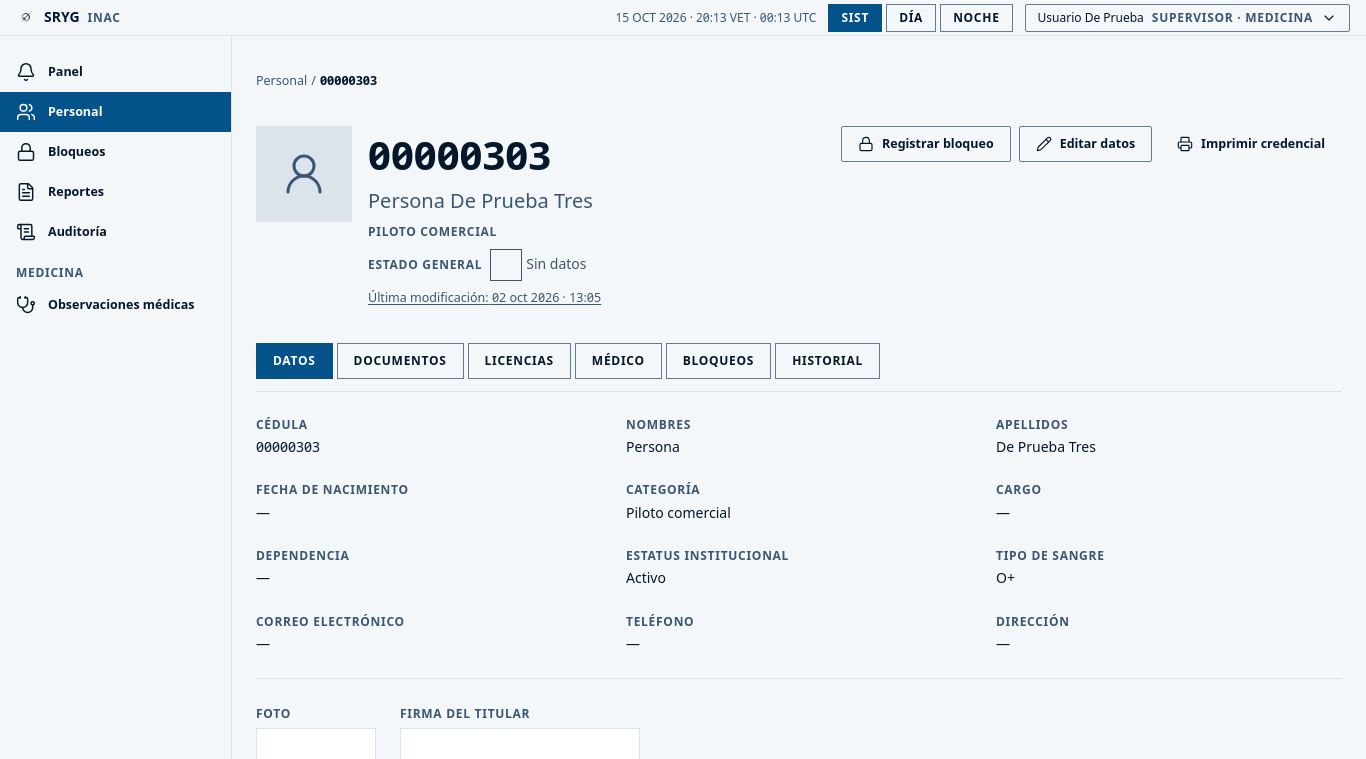
Test: "Imprimir credencial" in the Expediente (OUT-05, D7) › offers a Supervisor only the credentials of their area (D24)
Click the button "Imprimir credencial": {"x": 1251, "y": 144} [1160,126,1342,162]
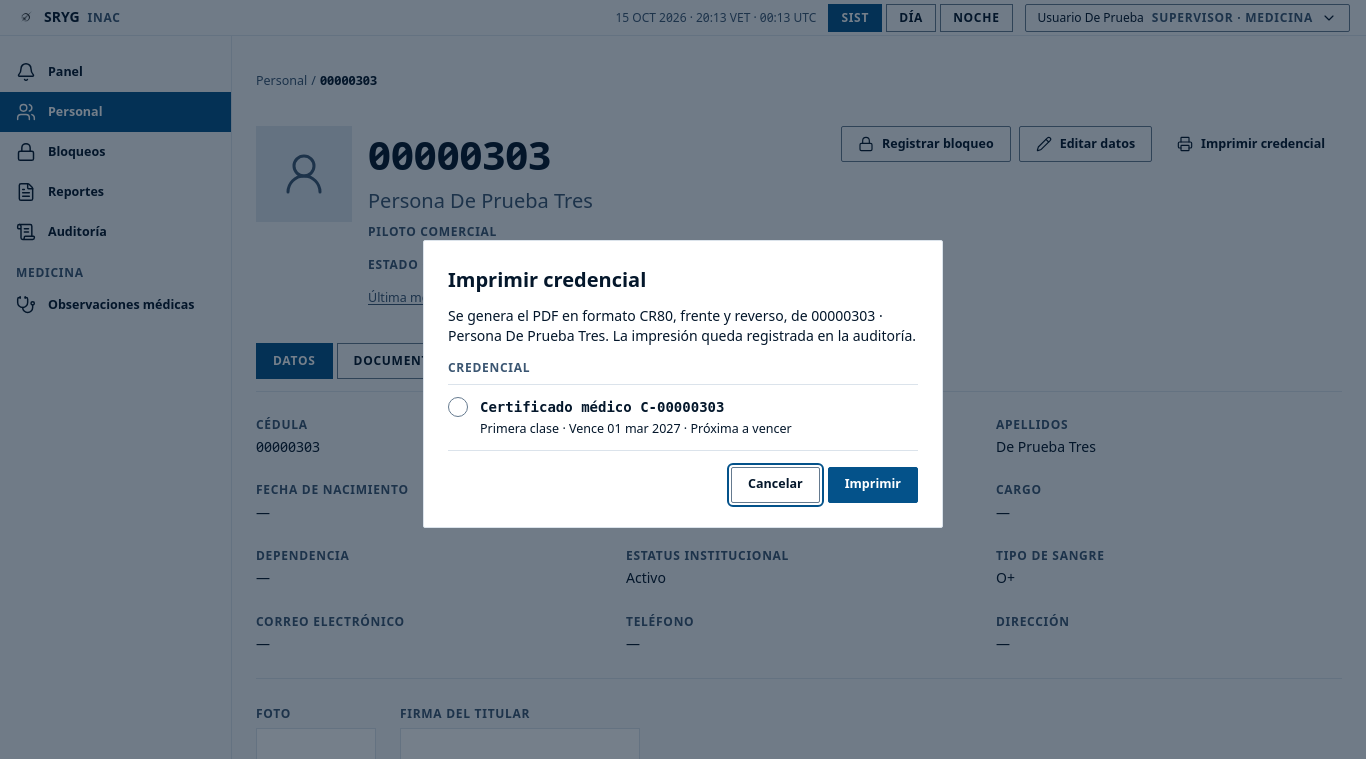
Expected: the radio button labelled "Certificado médico C-00000303" is shown, [448,385,918,451]
